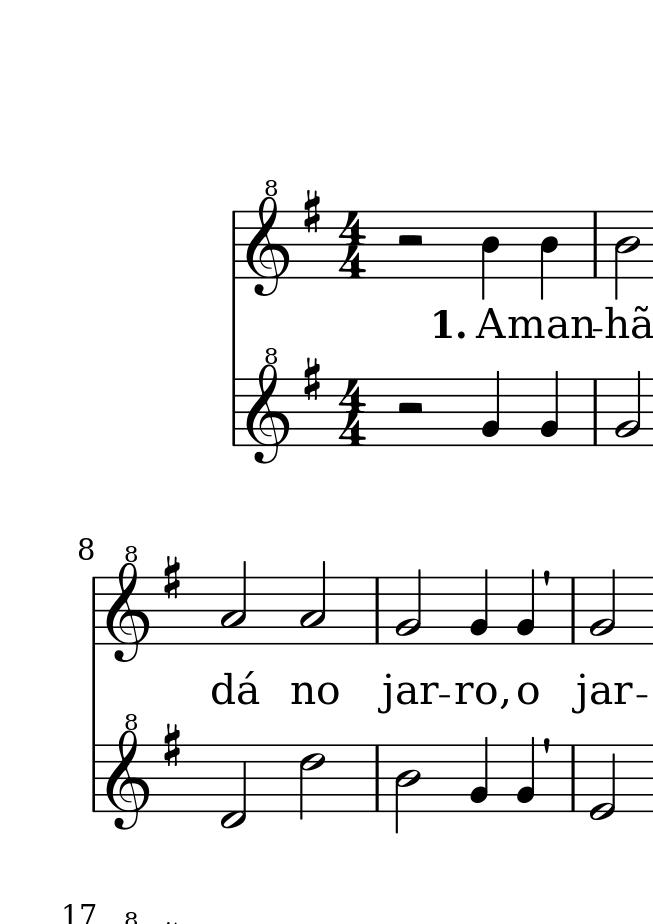1: (63, 901, 74, 924)
2_-1: (219, 741, 248, 831)
2_0: (588, 740, 618, 823)
2_2: (588, 568, 618, 645), (394, 568, 423, 645), (614, 372, 642, 447)
2_3: (219, 563, 248, 646), (299, 562, 328, 642)
2_4: (393, 742, 421, 837), (613, 209, 639, 296)
2_6: (298, 744, 324, 820)
4: (337, 377, 367, 414), (336, 412, 368, 446), (338, 209, 367, 246), (337, 244, 368, 278)
4_2: (480, 369, 504, 447), (468, 567, 491, 646), (538, 369, 561, 447), (515, 568, 537, 647), (468, 735, 490, 813), (514, 736, 536, 814)
4_4: (480, 212, 502, 300), (539, 210, 560, 302)
7: (79, 899, 98, 924)
8: (77, 535, 95, 561)
High_Gclef: (244, 348, 289, 470), (106, 544, 151, 665), (245, 177, 288, 298), (107, 714, 149, 831)
Rests2: (394, 401, 427, 417), (395, 233, 425, 249)
Sharp: (162, 721, 182, 770), (302, 188, 322, 236), (302, 356, 322, 404), (162, 554, 182, 602)
Single_barline: (588, 378, 603, 446), (227, 212, 242, 278), (588, 212, 603, 276), (87, 577, 101, 644), (370, 747, 385, 809), (87, 745, 101, 811), (566, 745, 580, 811), (567, 578, 581, 643), (228, 379, 241, 446)
TimeSig: (338, 210, 367, 278), (338, 378, 367, 446)
